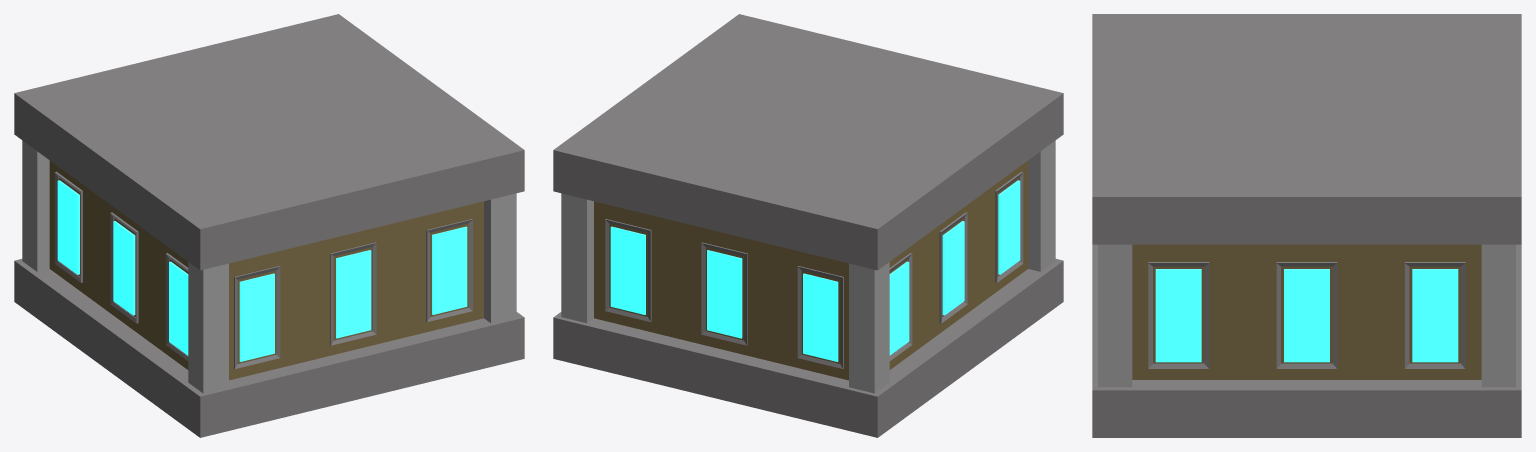
3 views of the same model, side by side, from view 1: azimuth 30°, elevation 25°; view 2: azimuth 150°, elevation 25°; view 3: azimuth 270°, elevation 25° (orthographic). The views are drawn at different scales.
Parts seen in each view (by area): view 1: Cube.014, Cube.002, Cube.013, Cube.016, Cube.004, Cube.005, Cube.006, Cube.015, Cube.017, Cube.010, Cube.012, Cube.011; view 2: Cube.014, Cube.002, Cube.013, Cube.017, Cube.003, Cube, Cube.001, Cube.018, Cube.016, Cube.010, Cube.011, Cube.012; view 3: Cube.014, Cube.002, Cube.013, Cube.007, Cube.008, Cube.009, Cube.015, Cube.018.
Boxes of the visible parts, x1,y1,x2,y2 form: Cube.014: (14, 14, 524, 270); Cube.002: (49, 160, 483, 380); Cube.013: (14, 259, 524, 437); Cube.016: (188, 262, 228, 393); Cube.004: (330, 242, 376, 345); Cube.005: (426, 219, 472, 322); Cube.006: (234, 266, 280, 368); Cube.015: (484, 193, 516, 323); Cube.017: (22, 140, 49, 271); Cube.010: (110, 212, 138, 323); Cube.012: (54, 171, 82, 282); Cube.011: (165, 253, 188, 360); Cube.014: (553, 14, 1063, 270); Cube.002: (594, 160, 1028, 380); Cube.013: (553, 259, 1063, 437); Cube.017: (849, 262, 889, 393); Cube.003: (701, 242, 747, 345); Cube: (605, 219, 651, 322); Cube.001: (797, 266, 843, 368); Cube.018: (561, 193, 593, 323); Cube.016: (1028, 140, 1055, 271); Cube.010: (939, 212, 967, 323); Cube.011: (995, 171, 1023, 282); Cube.012: (889, 253, 912, 360); Cube.014: (1092, 14, 1521, 244); Cube.002: (1132, 244, 1481, 379); Cube.013: (1092, 244, 1521, 437); Cube.007: (1148, 262, 1209, 368); Cube.008: (1404, 262, 1465, 368); Cube.009: (1276, 262, 1337, 368); Cube.015: (1098, 244, 1132, 387); Cube.018: (1481, 244, 1515, 387).
Size of the model in its own units: 13.28 by 8.16 by 13.17.
